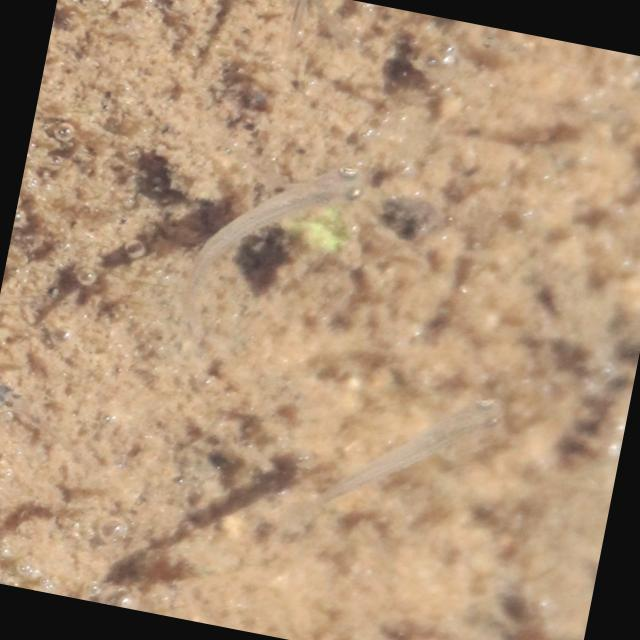Sivrisinek Baligi: (169, 137, 373, 336), (298, 364, 512, 544)
